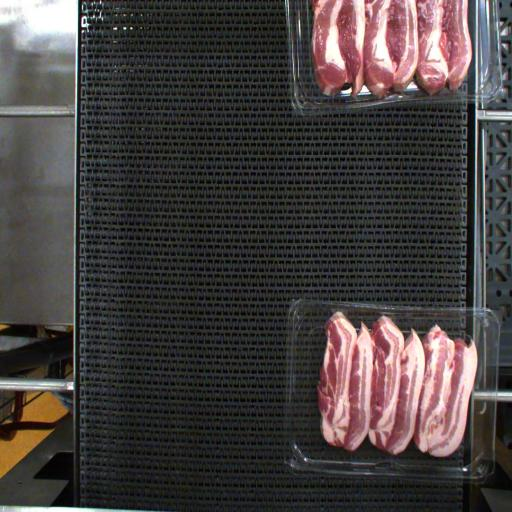packaging-error: (330, 307, 350, 318), (384, 312, 402, 322)
